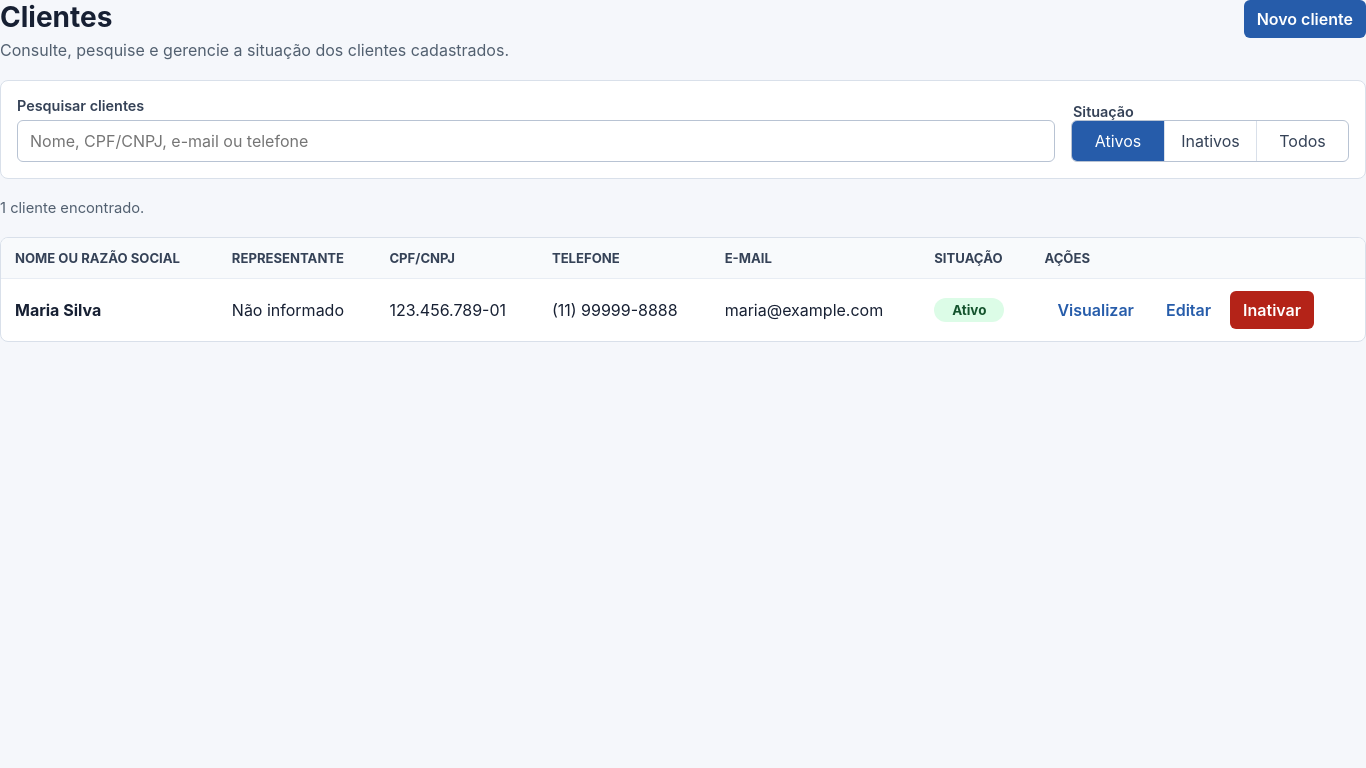
CustomerListPage › confirms inactivation
Click the button with aria-label "Inativar cliente Maria Silva": [1272, 310] box top-left (1230, 291), bottom-right (1314, 329)
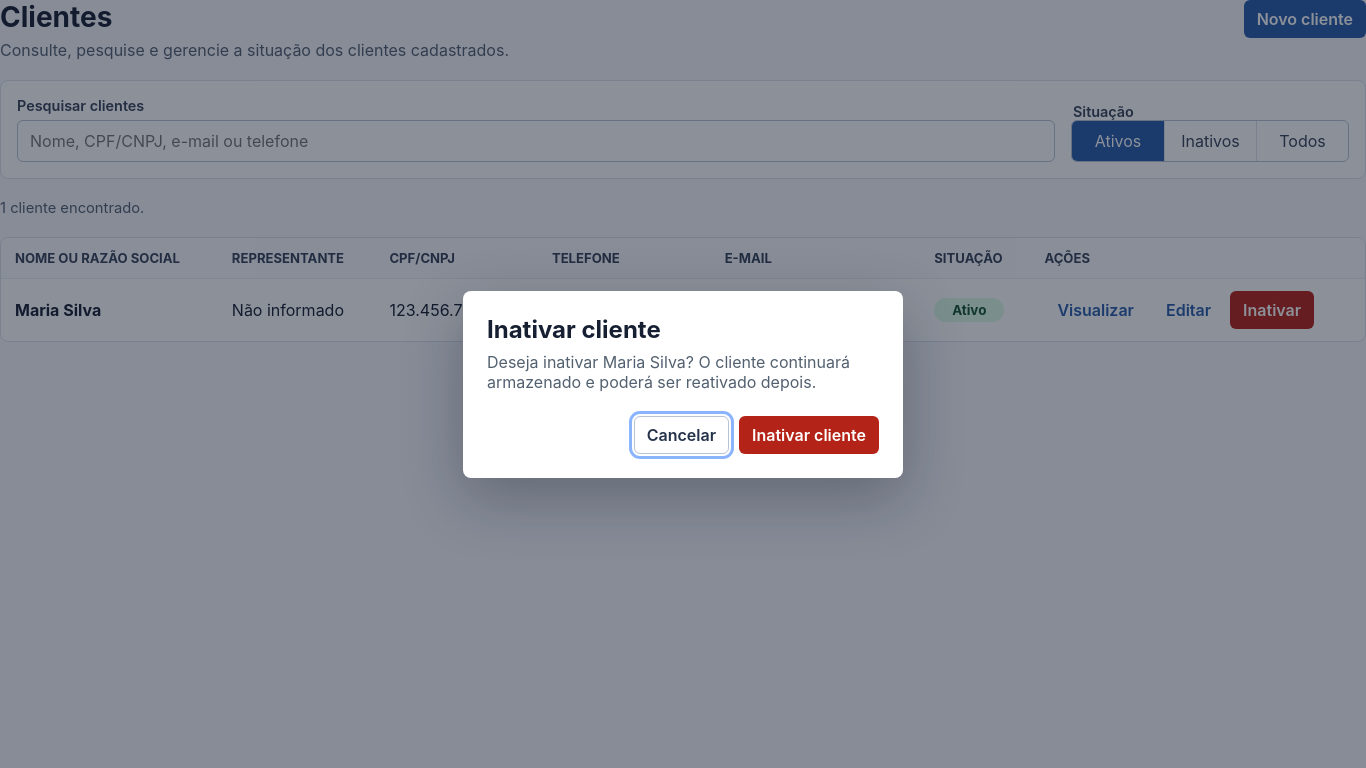
Click the button "Inativar cliente": [809, 434] box top-left (739, 416), bottom-right (879, 454)
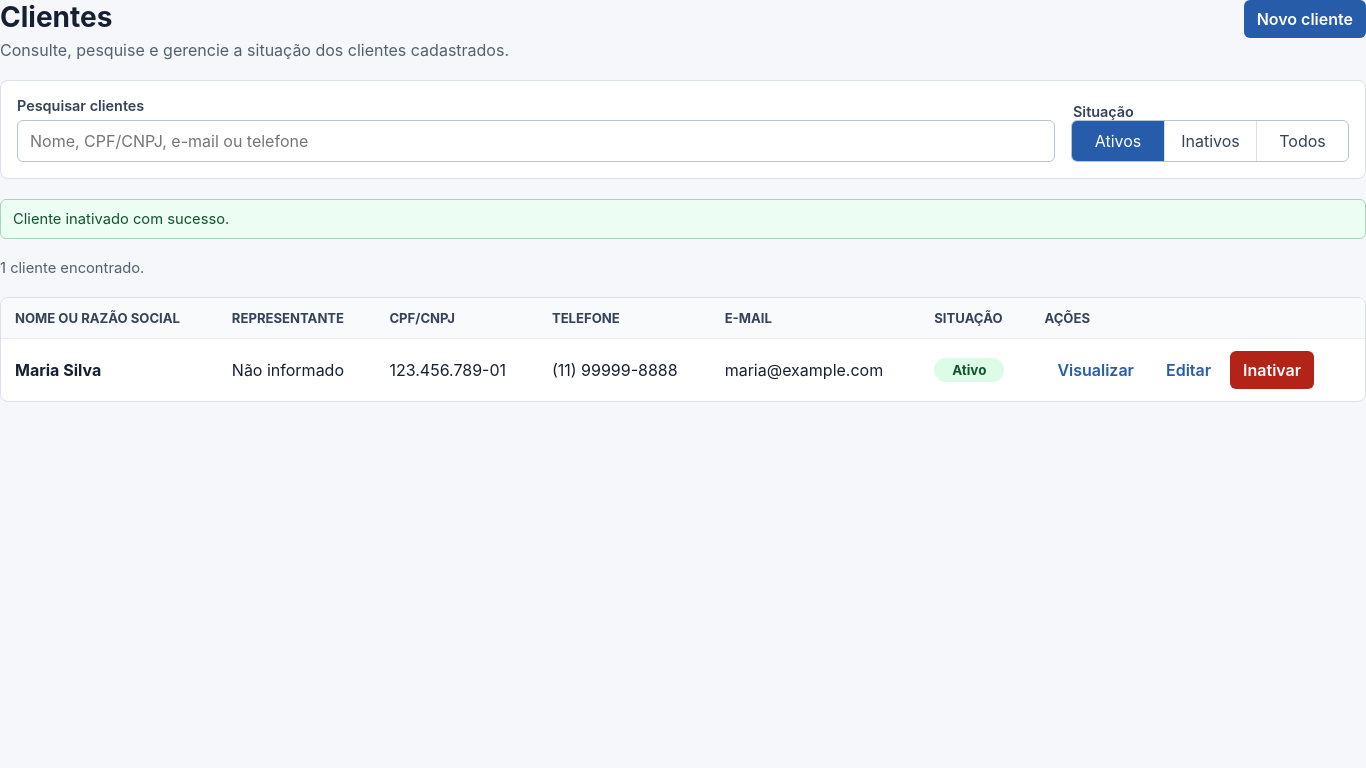
Result: the text "Cliente inativado com sucesso." is shown at top-left (0, 199), bottom-right (1365, 239)
